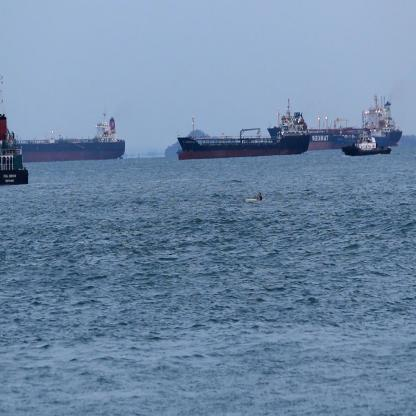Container Ship: (178, 98, 310, 161), (16, 107, 125, 163), (308, 94, 402, 151), (175, 147, 182, 157)
